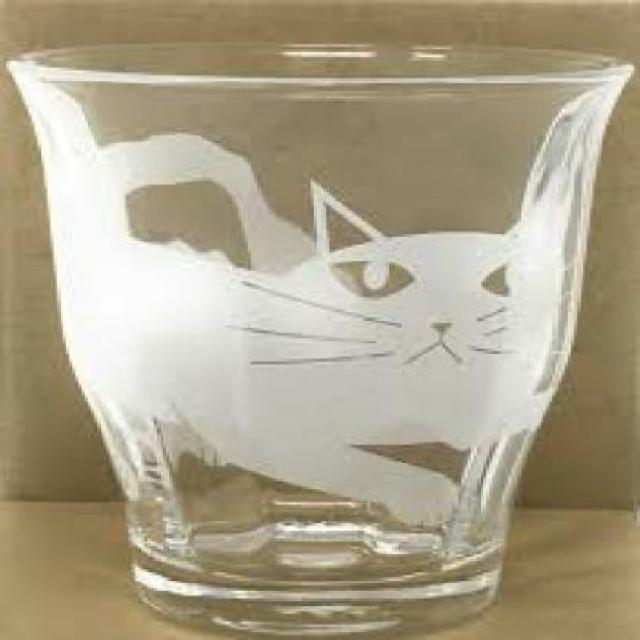kaca: (3, 45, 628, 637)
